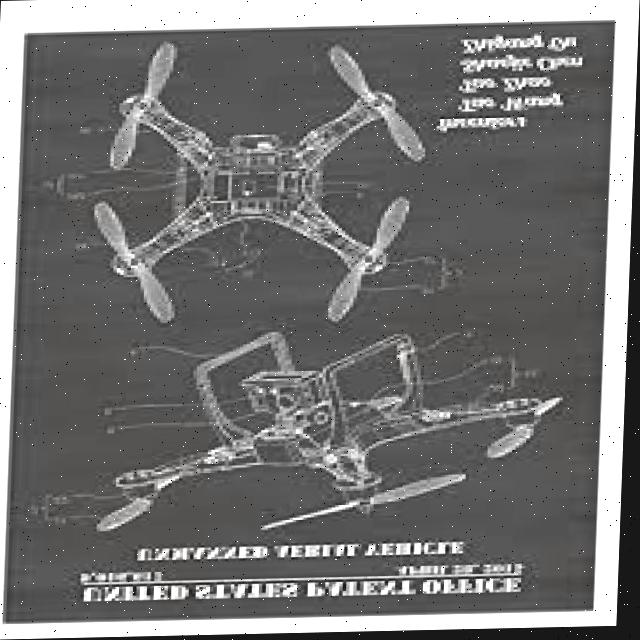drone: (65, 301, 575, 555), (86, 31, 433, 332)
